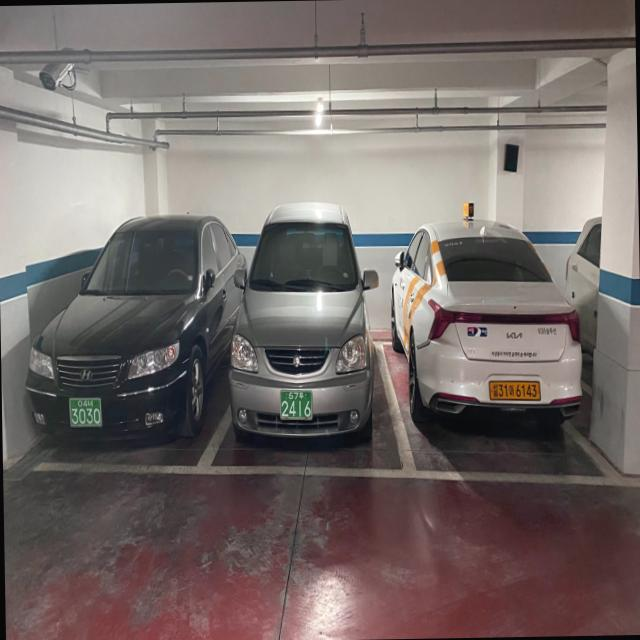car: (26, 211, 226, 446), (394, 212, 586, 438), (229, 201, 378, 447)
